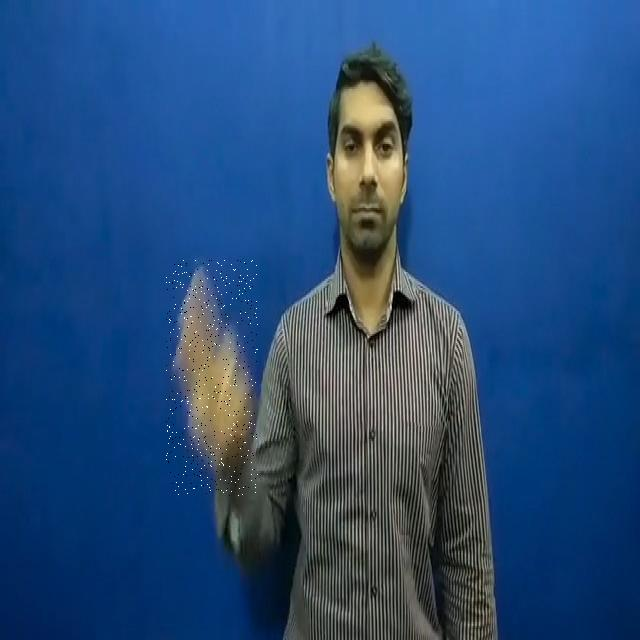french fries: (166, 260, 258, 496)
